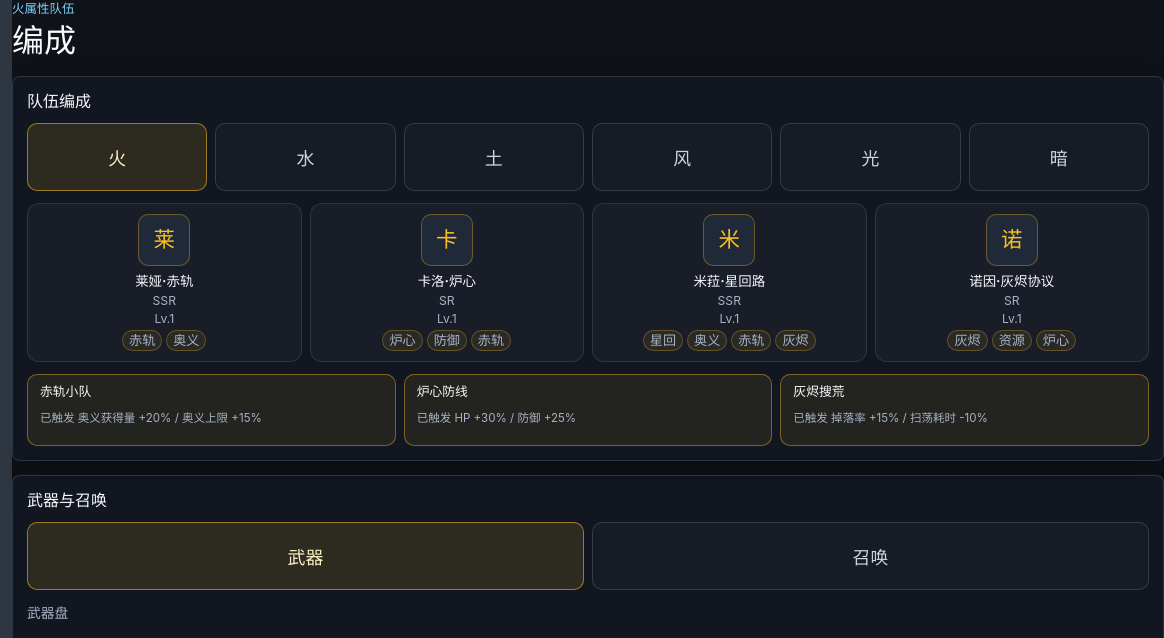
Test case: formation screen › switches to the summon page while keeping the summon layout intact
The image size is (1164, 638).
Click the button with test id "formation-equipment-page-summon": (870, 556) [592,522,1149,590]
(page scrolled)
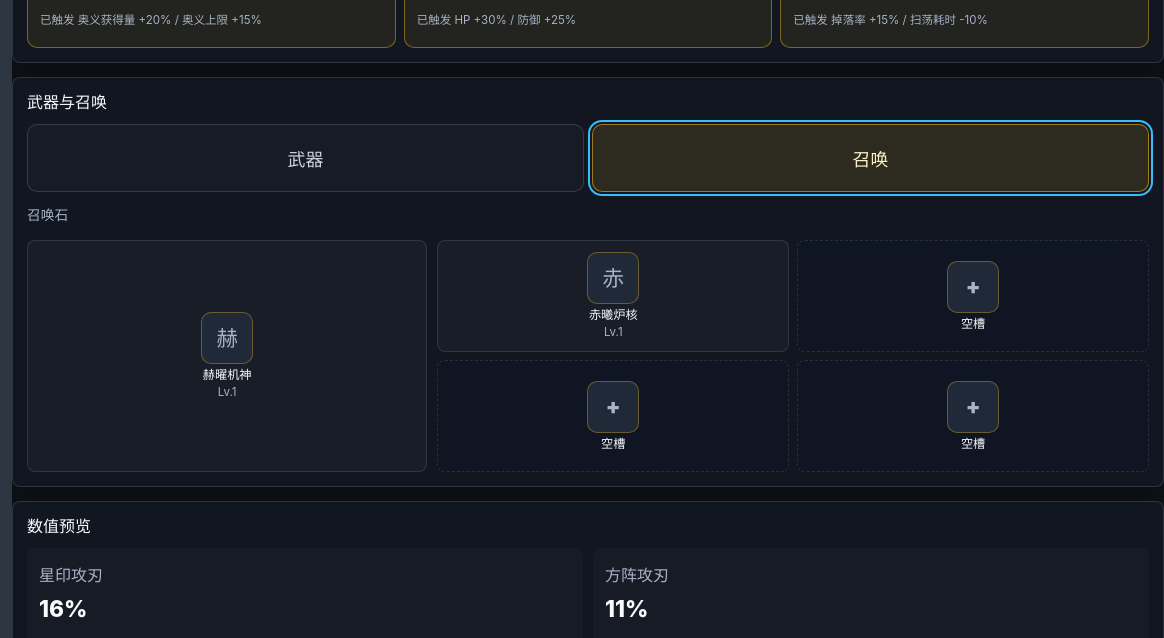
Expected: the element with test id "summon-main-slot" is shown, [27,240,427,472]
Expected: the element with test id "summon-sub-grid" is shown, [437,240,1149,472]
Expected: the number of elements with test id "summon-grid-slot" is 5, [201,312,253,399]; [587,252,639,339]; [947,261,999,331]; [587,381,639,451]; [947,381,999,451]
